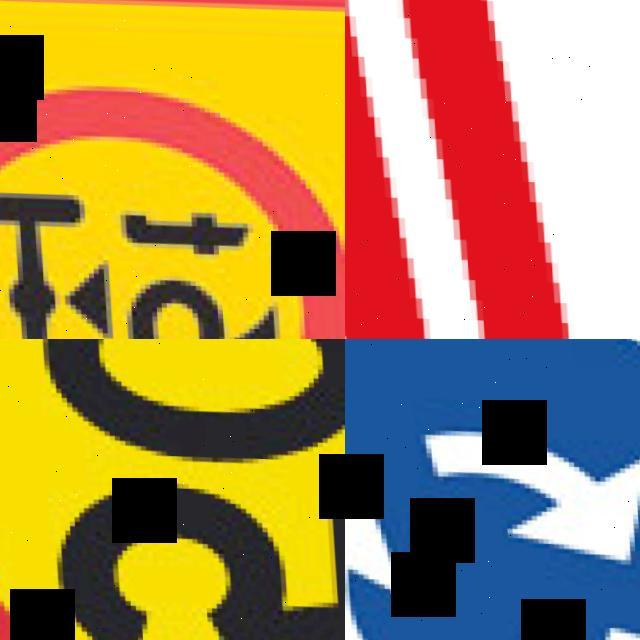16: (345, 339, 640, 640)
55: (0, 339, 345, 640)
82: (0, 0, 345, 339)
Level crossing countdown marker: (345, 0, 640, 339)
Roundabout: (345, 339, 640, 640)
